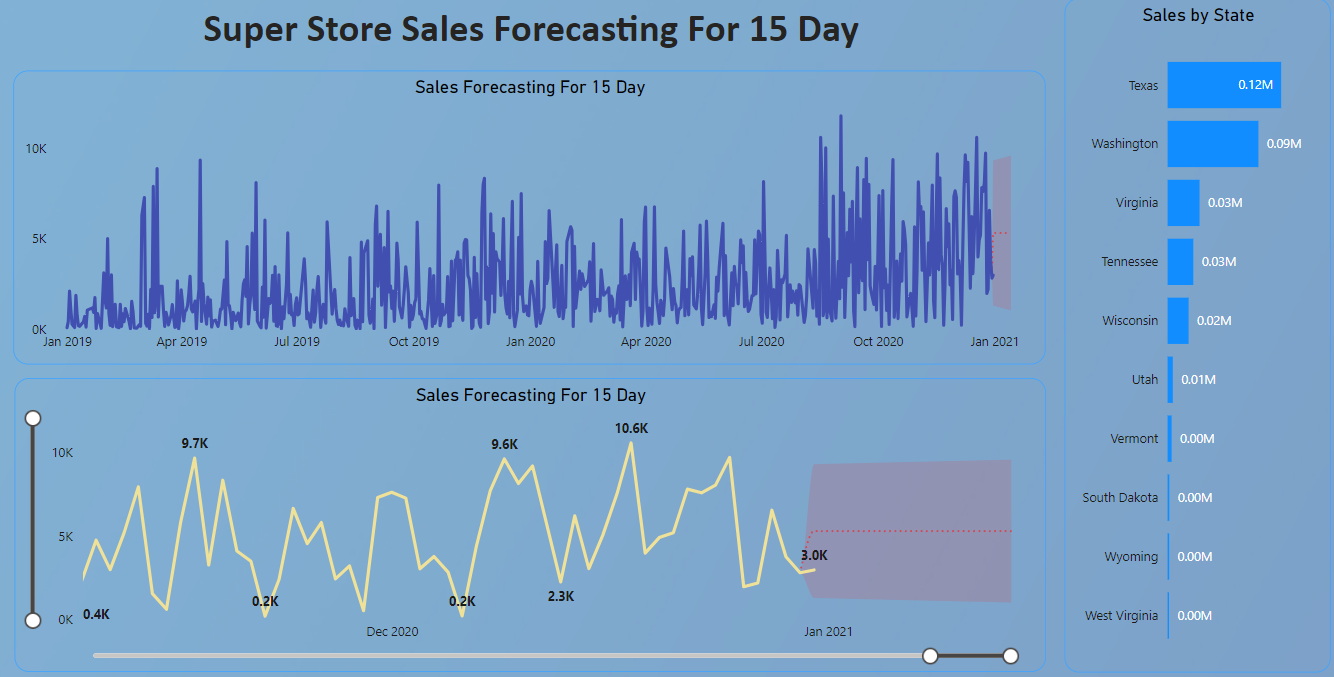

The dashboard page shown, as its layout file describes it:
{"tool":"powerbi","page":{"name":"Page 2","canvas":[1280,720],"ordinal":1},"visuals":[{"type":"lineChart","title":"Sales Forecasting For 15 Day","fields":{"Y":["Sum(SuperStore_Sales_Dataset.Sales)"],"Category":["SuperStore_Sales_Dataset.Order Date"]},"box":[16,79,983,280],"z":0},{"type":"lineChart","title":"Sales Forecasting For 15 Day","fields":{"Y":["Sum(SuperStore_Sales_Dataset.Sales)"],"Category":["SuperStore_Sales_Dataset.Order Date"]},"box":[16.9,371.6,982,279.9],"z":1000},{"type":"barChart","title":"Sales by State","fields":{"Category":["SuperStore_Sales_Dataset.State"],"Y":["Sum(SuperStore_Sales_Dataset.Sales)"]},"box":[1016.8,9.6,253.9,642.2],"z":2000},{"type":"textbox","box":[54.8,10.7,908.3,67.9],"z":3000}]}

Visuals, with their boxes on the page's 1280x720 design canvas (x1, y1, x2, y2). These are canvas units, not pixel positions in the 1334x677 screenshot, which may show the page scaled, cropped or inside an application window:
"Sales Forecasting For 15 Day" lineChart: 16/79/999/359
"Sales Forecasting For 15 Day" lineChart: 17/372/999/652
"Sales by State" barChart: 1017/10/1271/652
textbox: 55/11/963/79
